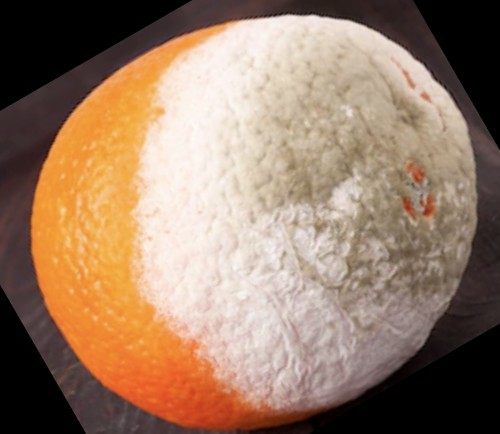rotten_orange: (33, 15, 474, 429)
